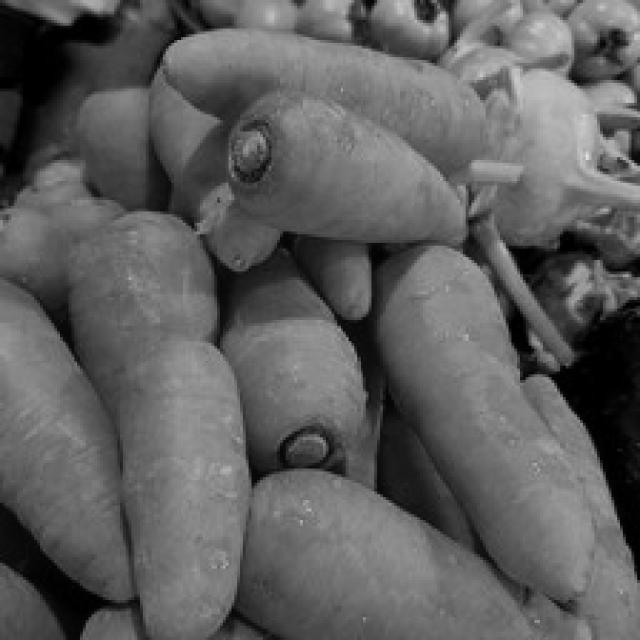Fresh_Carrot: (373, 248, 596, 610), (120, 332, 239, 628)
